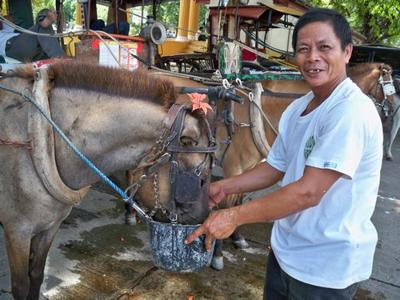person: (187, 8, 383, 300)
